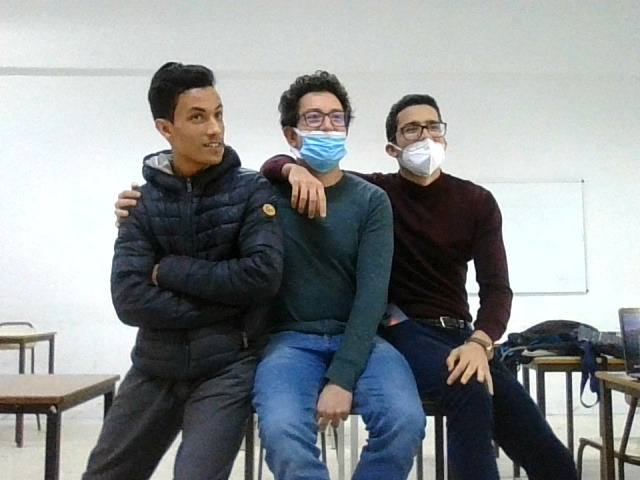mask_weared_incorrect: (263, 69, 364, 177), (379, 91, 453, 183)
without_mask: (139, 66, 241, 169)
